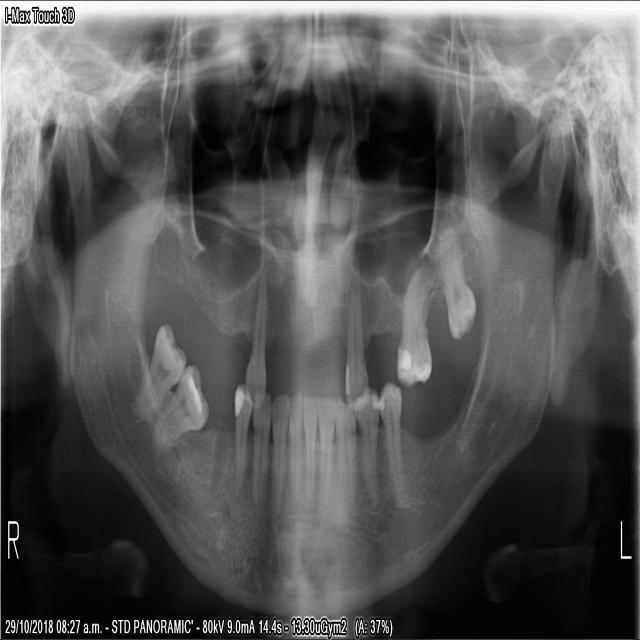LCD: (331, 383, 357, 506)
LCU: (343, 264, 370, 402)
LID: (317, 391, 335, 508), (300, 387, 317, 504)
LMU: (431, 217, 479, 347), (396, 267, 436, 392)
LPMD: (346, 383, 380, 507), (377, 378, 408, 507)
RCD: (248, 387, 271, 527)
RCU: (242, 260, 266, 406)
RID: (266, 388, 291, 524), (286, 385, 302, 501)
RMD: (145, 352, 212, 460), (132, 313, 188, 423)
RPMD: (230, 377, 252, 500)
